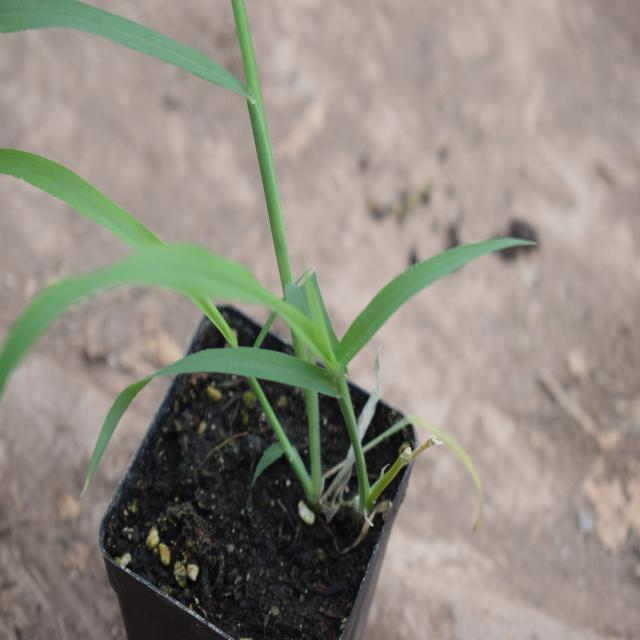crabgrass: (14, 139, 408, 473)
